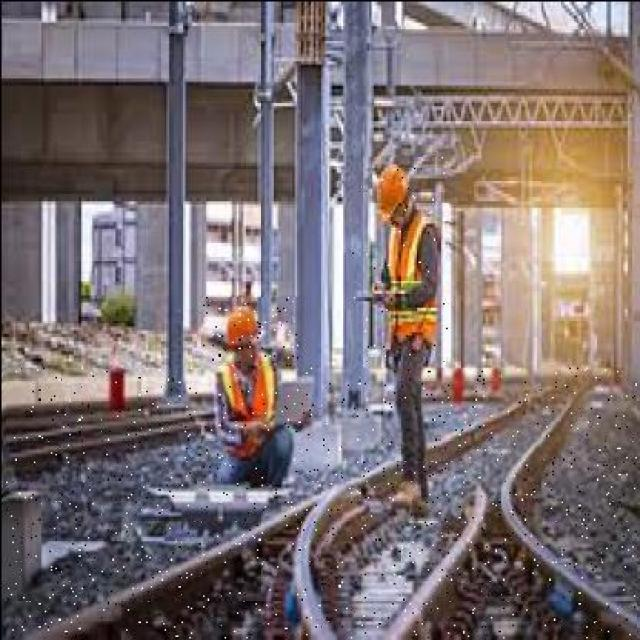danger: (352, 156, 446, 517), (200, 297, 297, 477)
rail: (8, 367, 635, 637)
